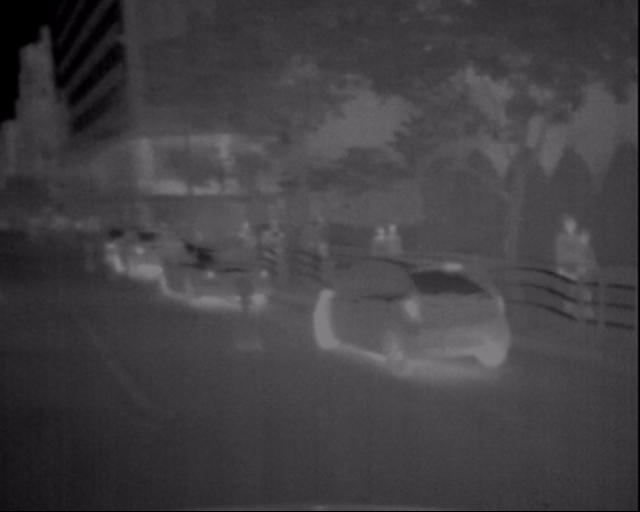person: (554, 209, 603, 326), (566, 222, 613, 323), (378, 214, 423, 296), (373, 216, 415, 299), (285, 204, 318, 267), (311, 204, 344, 265)
